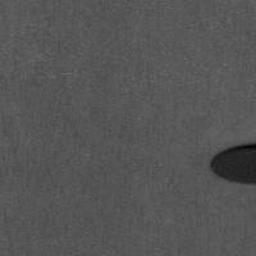Punching: (210, 143, 256, 186)
